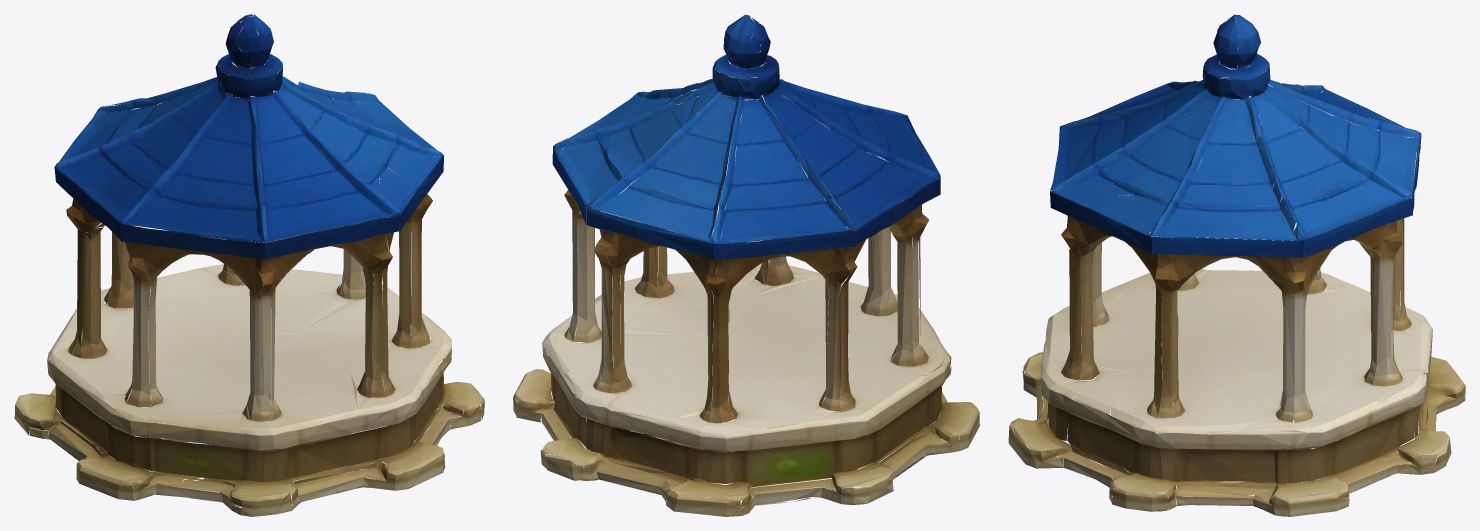
File: gazebo.glb
3 views of the same model, side by side, from view 1: azimuth 30°, elevation 25°; view 2: azimuth 150°, elevation 25°; view 3: azimuth 270°, elevation 25° (orthographic).
Visible parts, largest first — view 1: geometry_0; view 2: geometry_0; view 3: geometry_0.
Part boxes in pixels (left/top/right/bottom): geometry_0: left=14, top=14, right=484, bottom=516; geometry_0: left=513, top=14, right=979, bottom=516; geometry_0: left=1008, top=14, right=1465, bottom=516.
Size of the model in its own units: 0.9927 by 0.9771 by 0.9939.
Materials: 1 (1 with a texture image).
